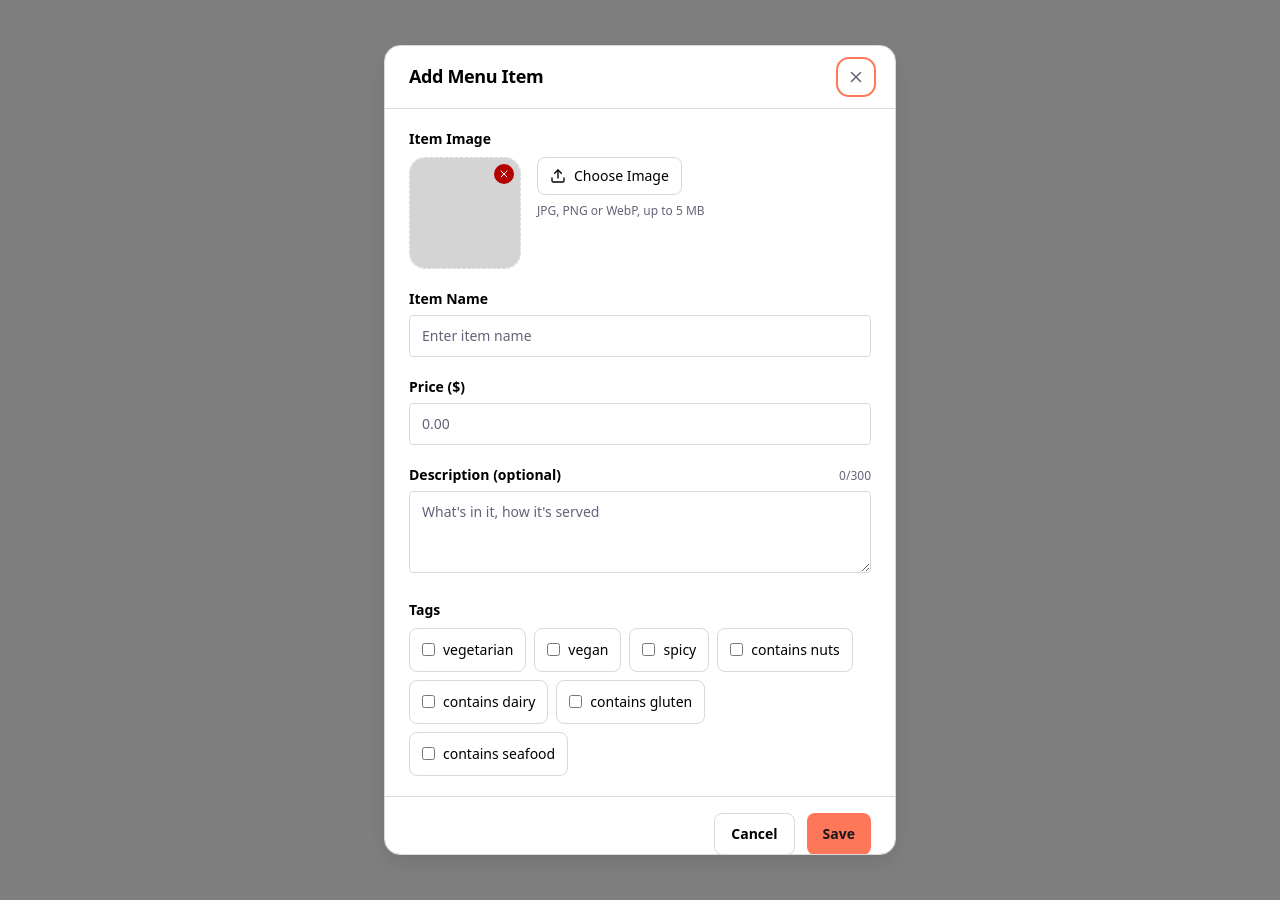
Test: adding an item with a photo (PHOTOS-S3) › the signed form expired: says so and asks to try again
Earlier steps of the test are not shown.
In the field with placeholder "Enter item name": (640, 336) [409,315,871,357], type "Fish Amok"
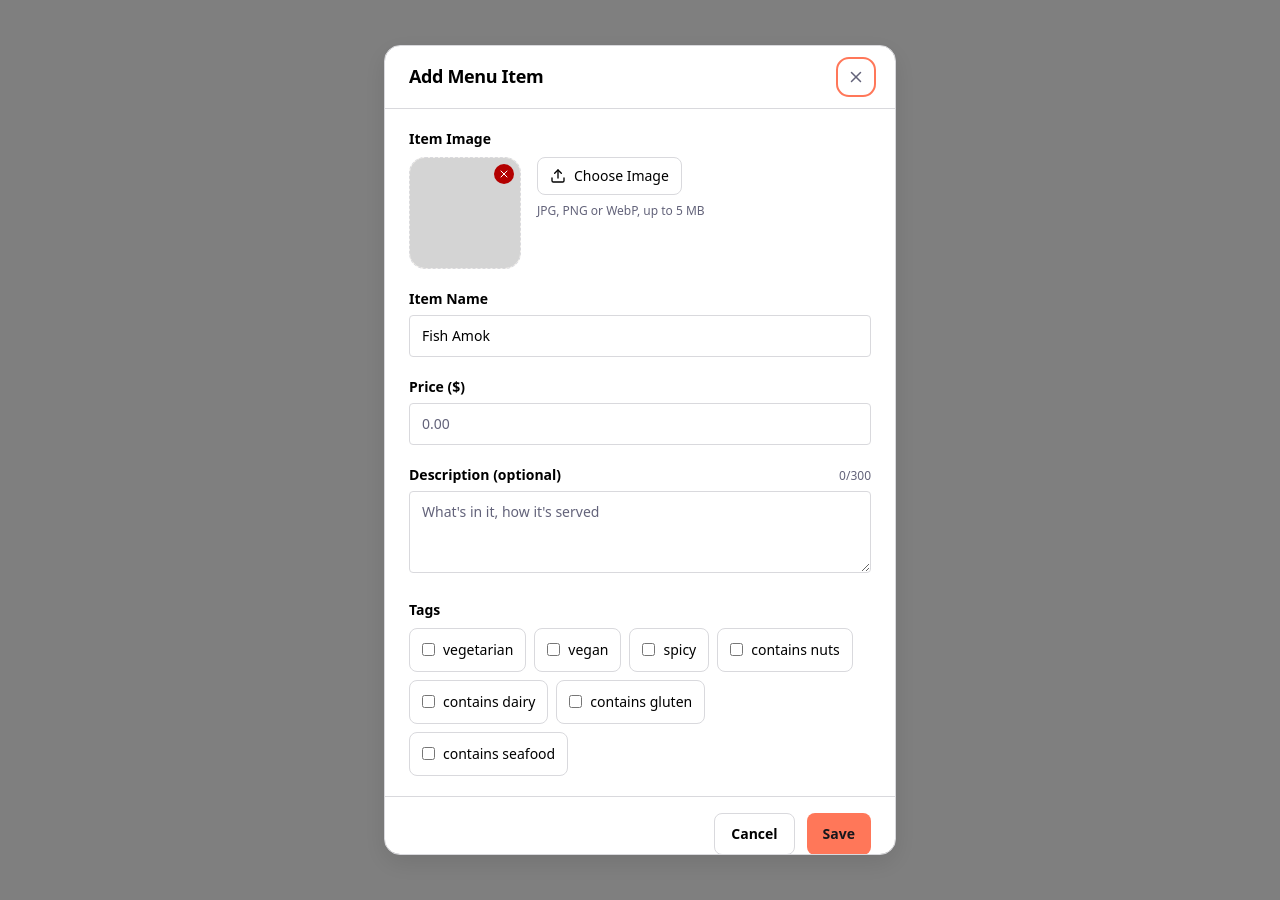
In the number field with placeholder "0.00": (640, 424) [409,403,871,445], type "5.5"
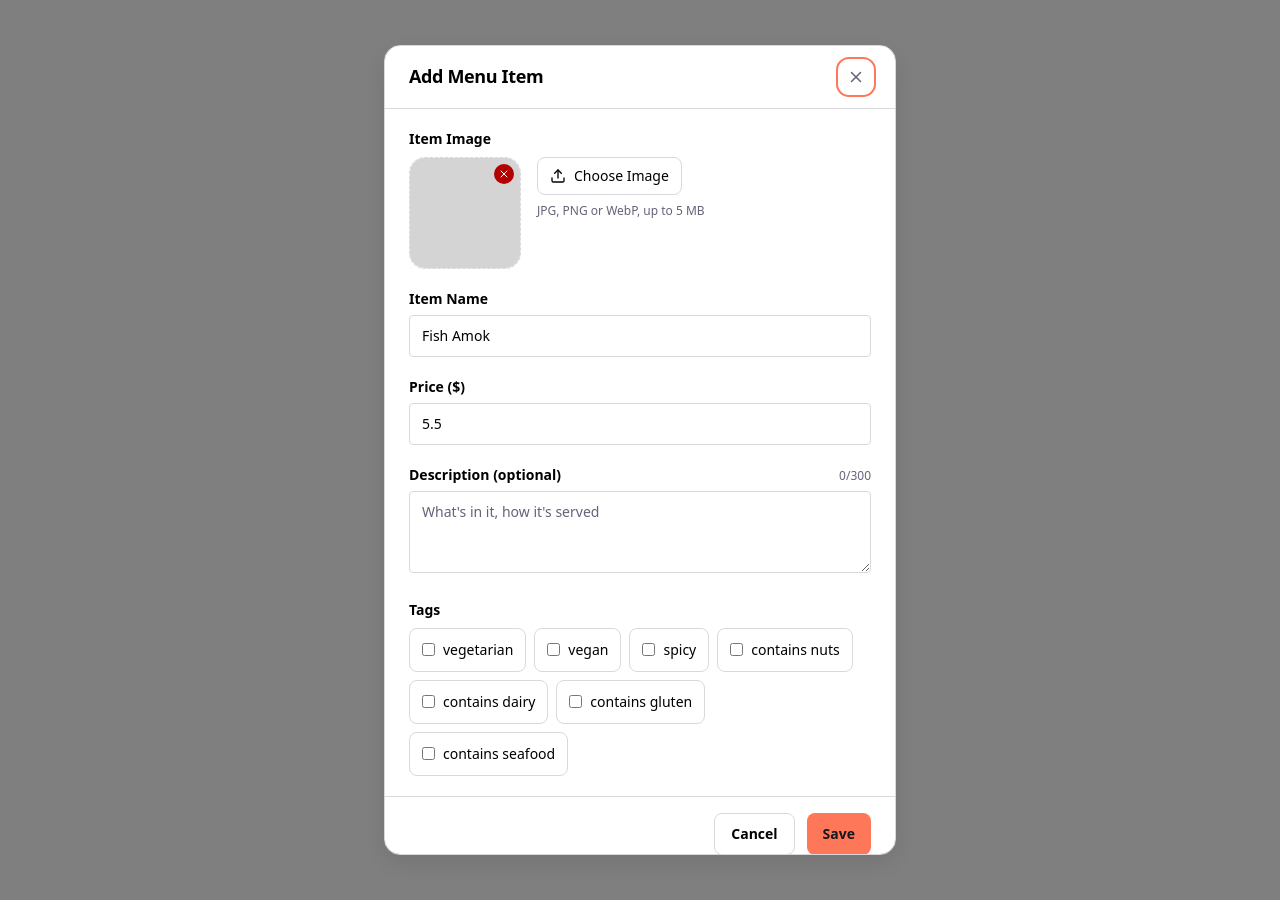
Click the button "Save": (839, 834) [807,813,871,855]
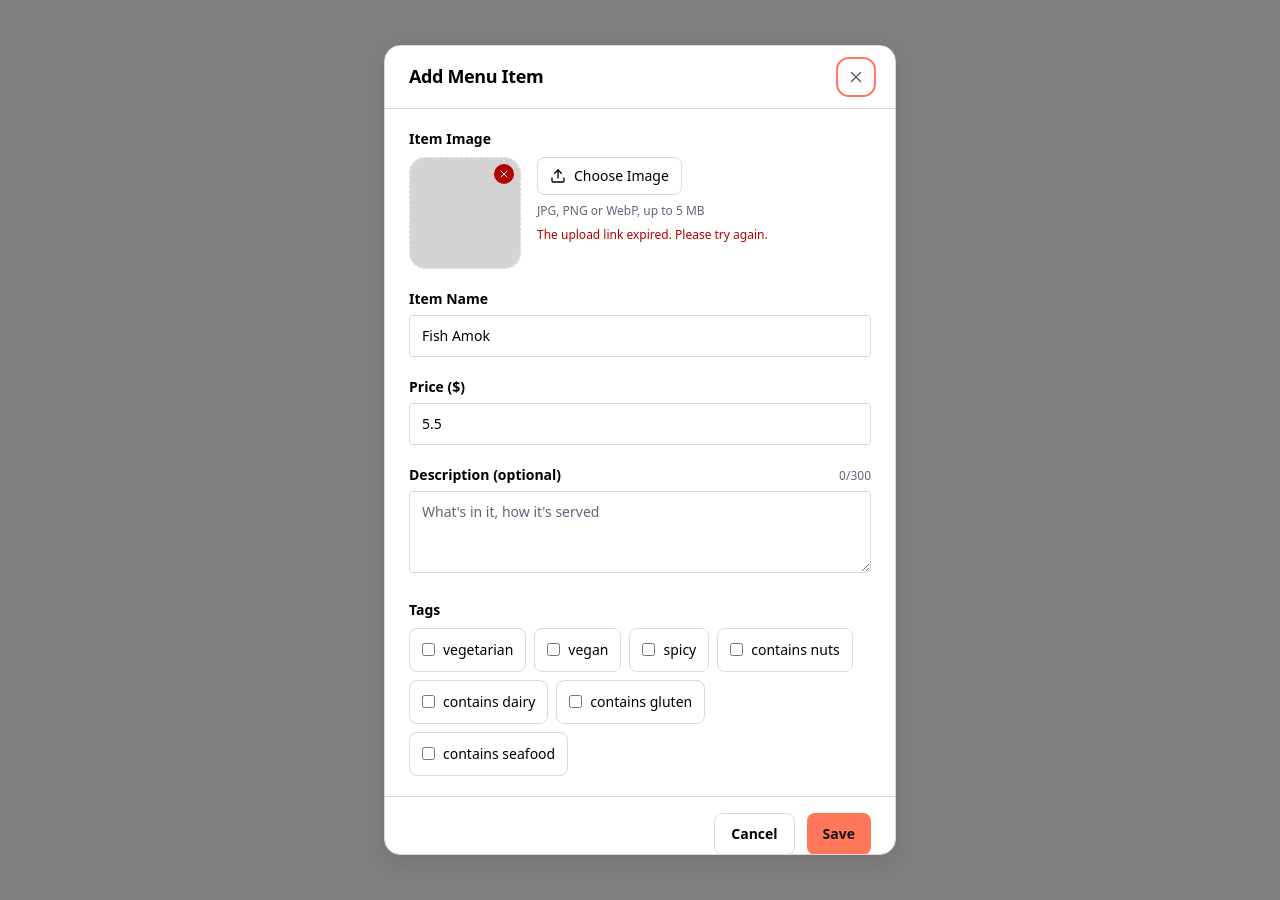
expect the message reads "The upload link expired. Please try again.": met, box [537,226,768,243]
